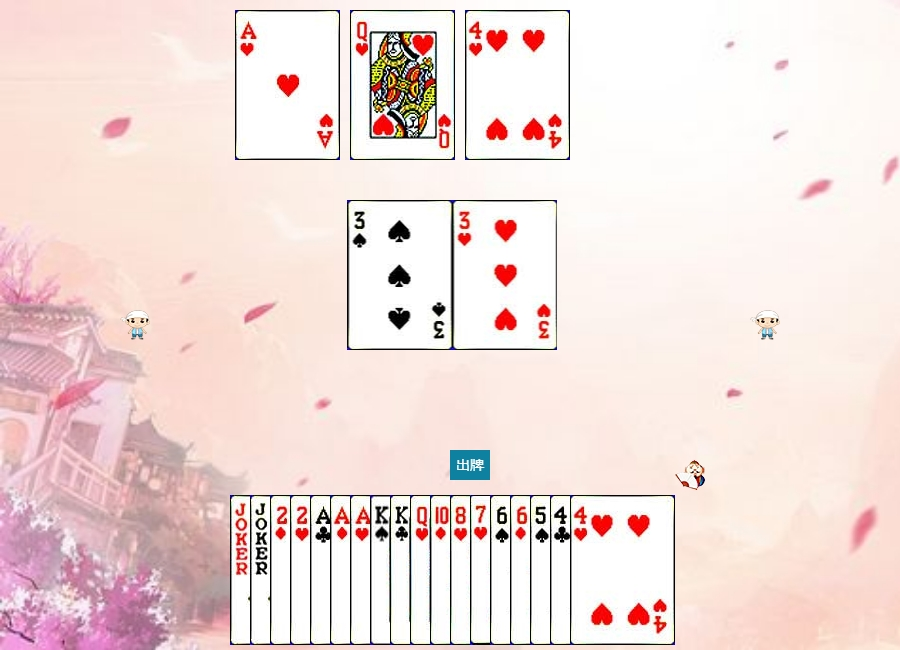10~1: (430, 495, 535, 645)
12~3: (350, 10, 455, 160), (410, 495, 515, 645)
13~2: (390, 495, 495, 645)
13~4: (370, 495, 475, 645)
14~1: (330, 495, 435, 645)
14~2: (310, 495, 415, 645)
14~3: (235, 10, 340, 160), (350, 495, 455, 645)
15~1: (270, 495, 375, 645)
15~3: (290, 495, 395, 645)
17~3: (250, 495, 355, 645)
18~4: (230, 495, 335, 645)
3~3: (453, 200, 558, 350)
3~4: (348, 200, 453, 350)
4~2: (550, 495, 655, 645)
4~3: (465, 10, 570, 160), (570, 495, 675, 645)
5~4: (530, 495, 635, 645)
6~1: (510, 495, 615, 645)
6~4: (490, 495, 595, 645)
7~3: (470, 495, 575, 645)
8~3: (450, 495, 555, 645)
